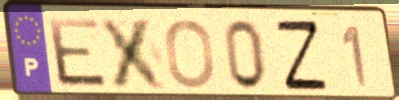0: (221, 17, 269, 93)
1: (340, 23, 369, 88)
E: (45, 15, 112, 89)
O: (163, 17, 218, 90)
X: (97, 15, 171, 91)
Z: (272, 17, 331, 92)
